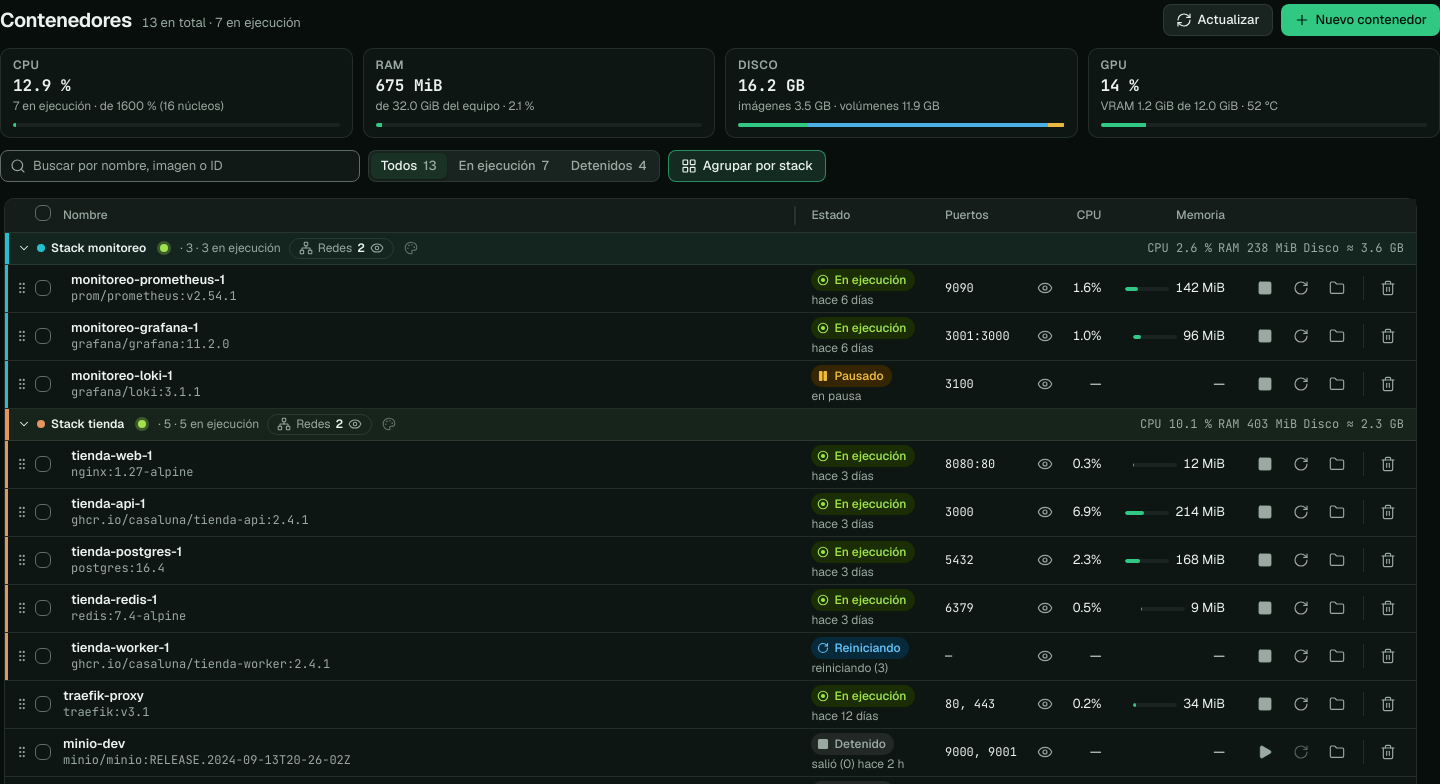
Test case: ContainersPage › eliminación masiva: enumera los contenedores afectados
The image size is (1440, 784).
Expected: the link "tienda-api-1" is shown, [71,495,146,512]
What coordinates should you click on to do the following:
click the checkbox named "Seleccionar tienda-redis-1"
I would click on:
 (43, 608)
Its box is [35,600,51,616].
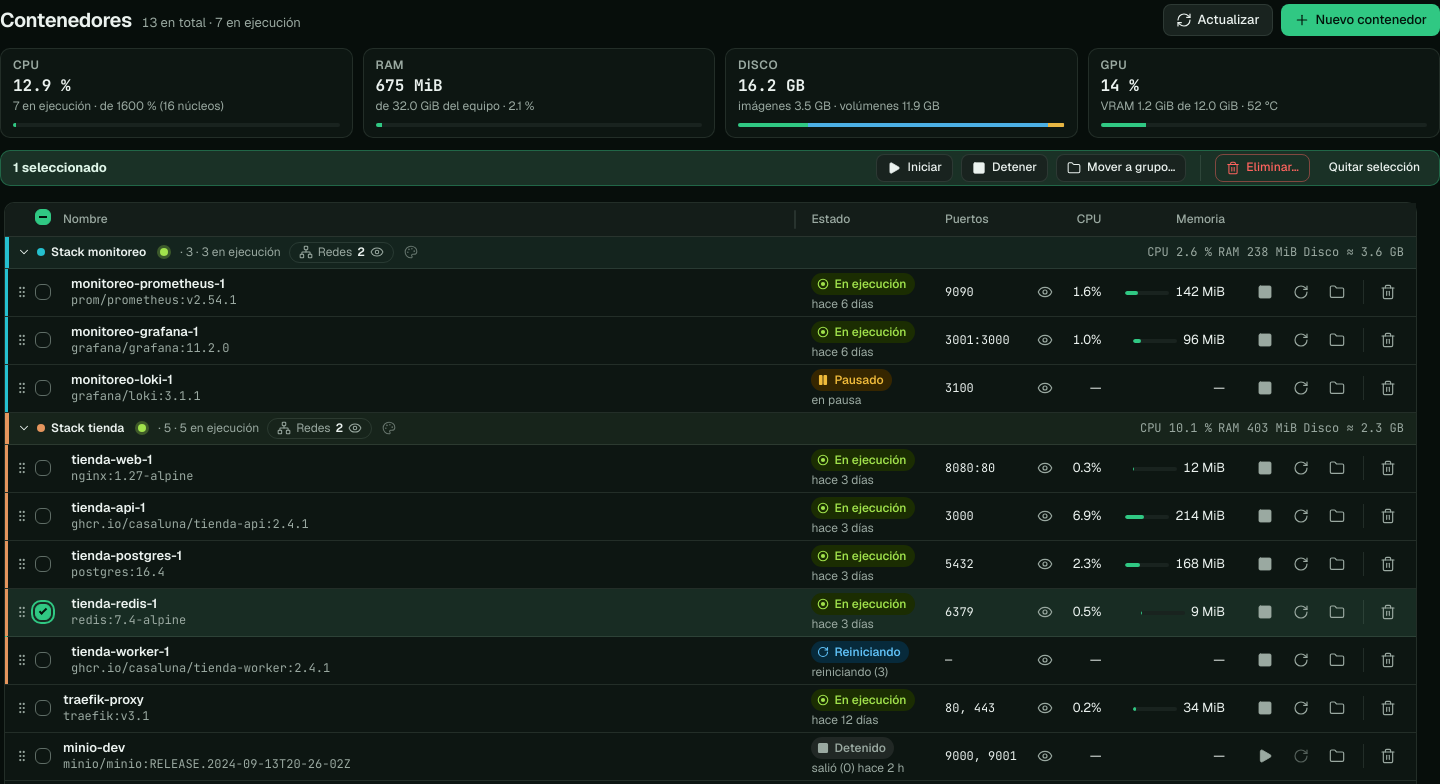
What coordinates should you click on to do the following:
click the checkbox named "Seleccionar minio-dev"
I would click on:
 (43, 756)
Its box is [35,748,51,764].
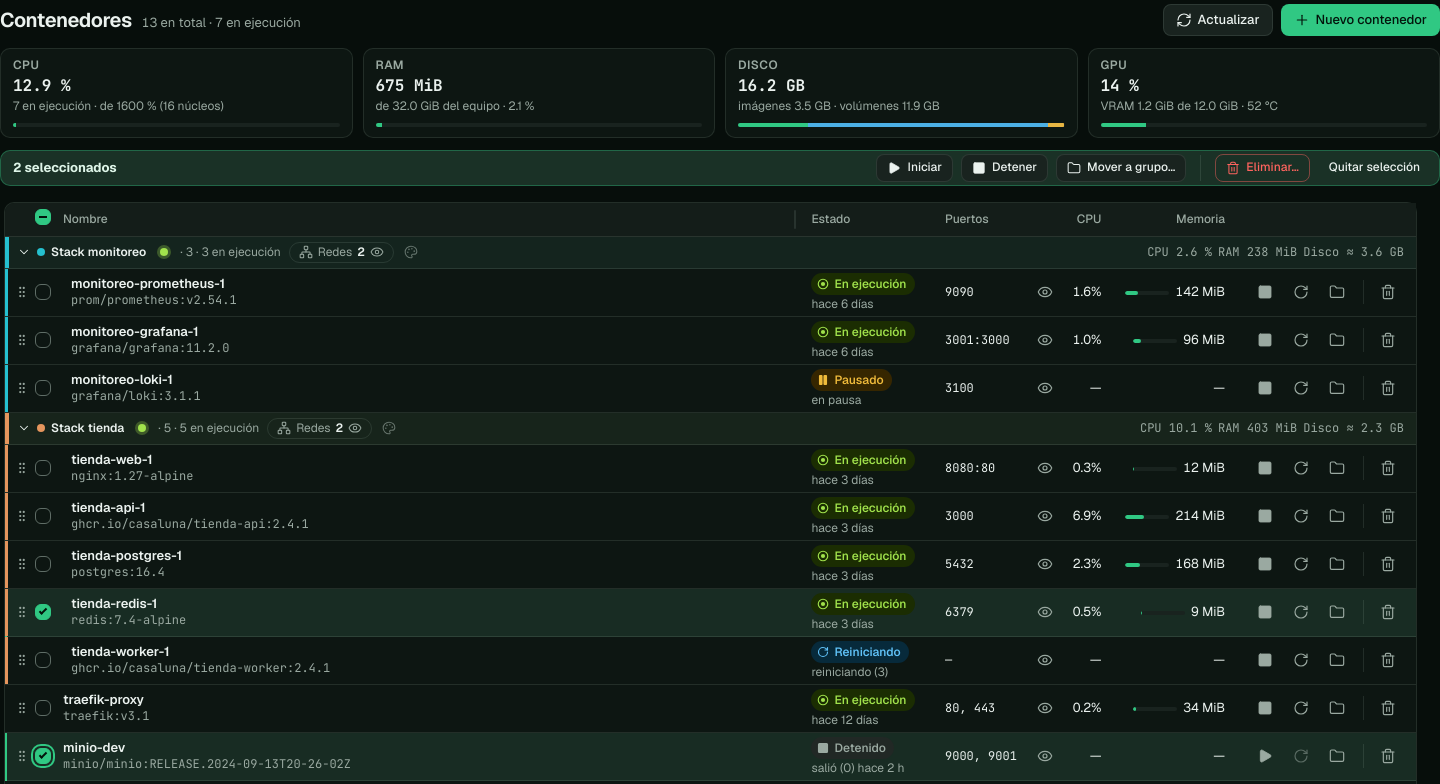
What coordinates should you click on to do the following:
click the checkbox named "Seleccionar tienda-postgres-1"
I would click on:
 (43, 564)
Its box is [35,556,51,572].
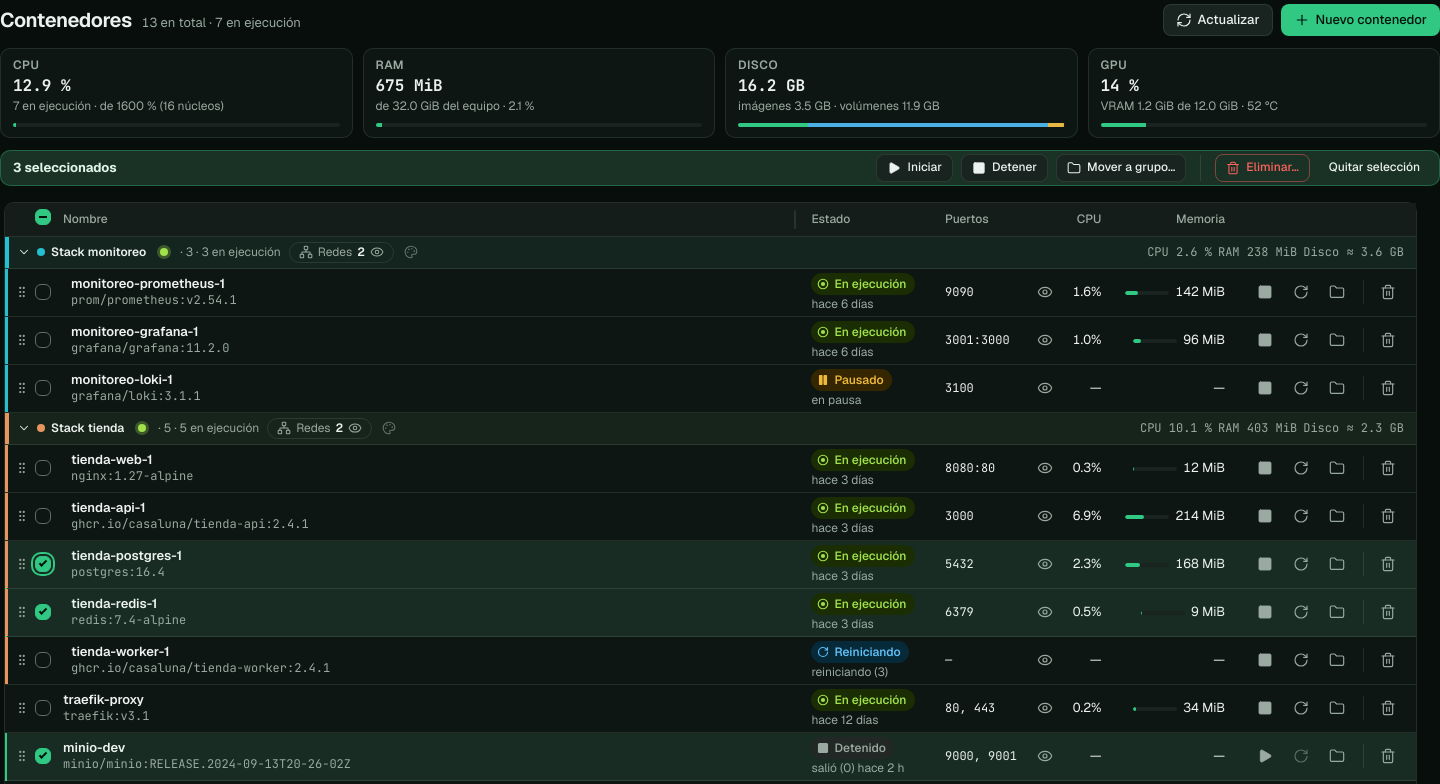
What coordinates should you click on to do the following:
click the button "Eliminar…"
I would click on:
 (1263, 168)
Its box is [1215,154,1310,182].
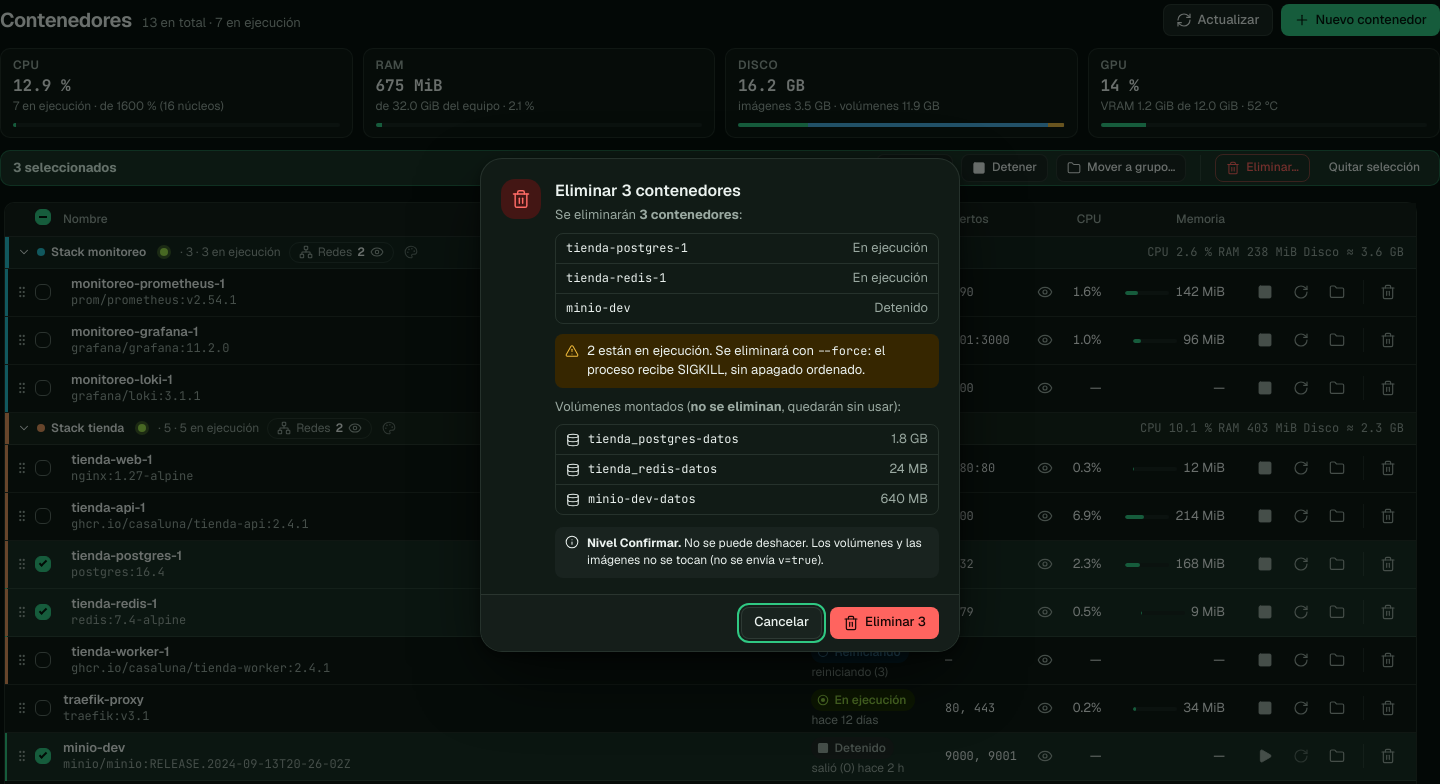
Expected: the heading "Eliminar 3 contenedores" is shown, [555,180,741,201]
What coordinates should you click on to do the following:
click the button "Eliminar 3"
I would click on:
 (884, 623)
Its box is [830,607,939,639].
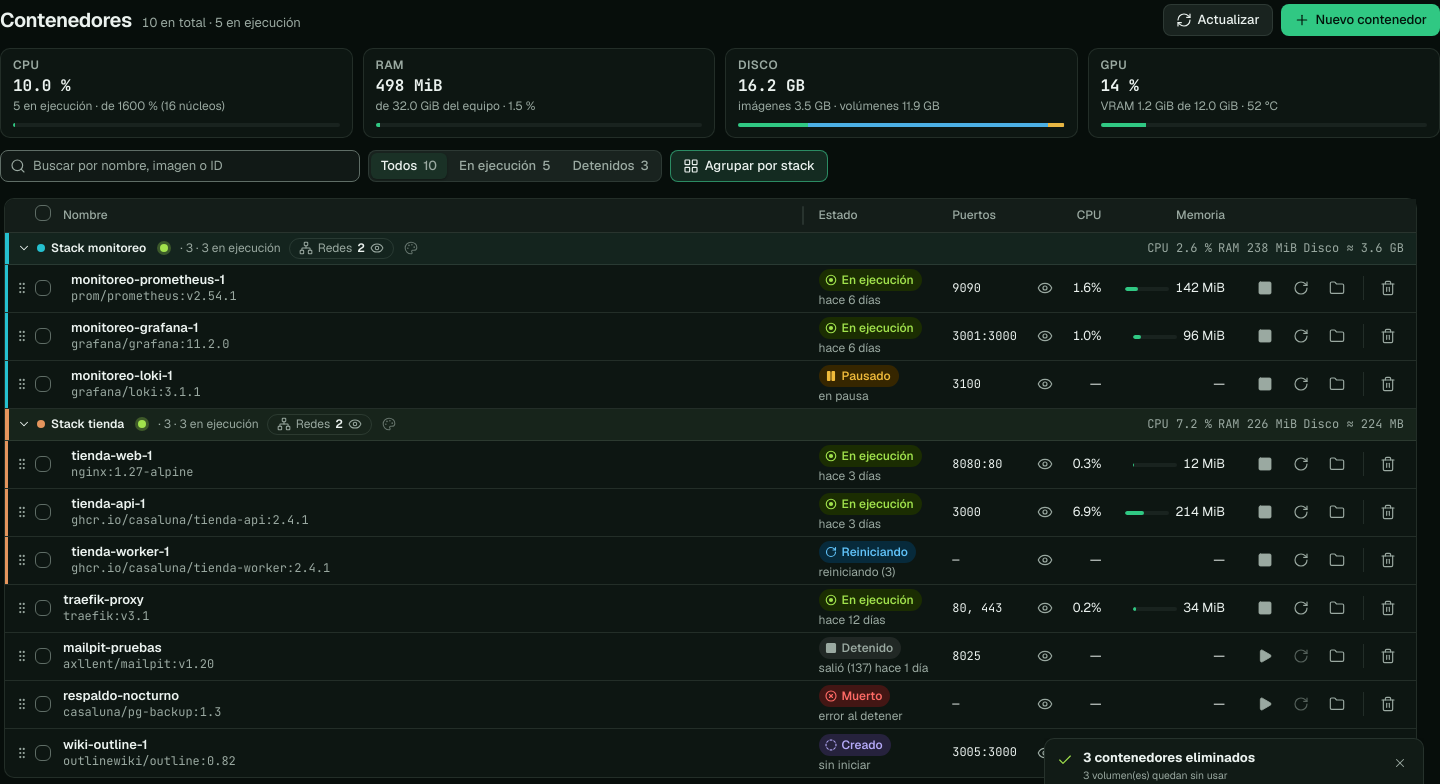
Expected: the link "minio-dev" is gone
